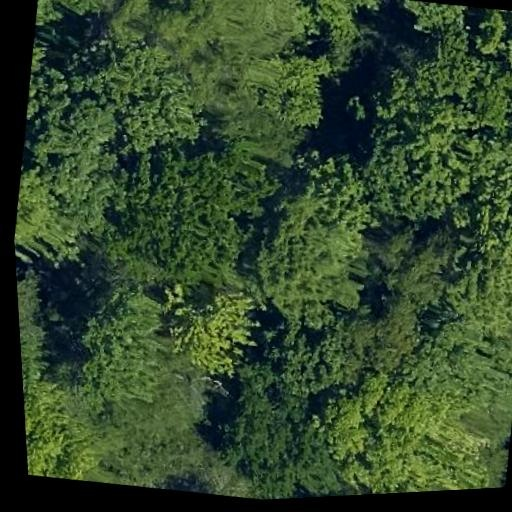tree-top: (50, 280, 235, 489), (87, 133, 279, 309), (235, 137, 390, 332), (327, 355, 512, 496), (32, 33, 208, 175), (346, 84, 491, 236), (178, 31, 330, 166), (359, 199, 512, 333), (125, 277, 266, 417), (8, 124, 127, 271), (203, 370, 329, 503), (405, 211, 512, 355), (271, 140, 378, 264), (369, 22, 490, 120), (174, 0, 324, 73), (393, 310, 487, 413), (22, 375, 105, 484), (178, 281, 265, 383), (15, 253, 74, 401), (255, 309, 354, 397), (307, 380, 379, 464), (301, 0, 389, 65), (18, 21, 65, 132), (472, 111, 512, 221), (389, 0, 474, 45), (462, 3, 512, 78), (34, 0, 138, 35), (467, 66, 512, 132)
